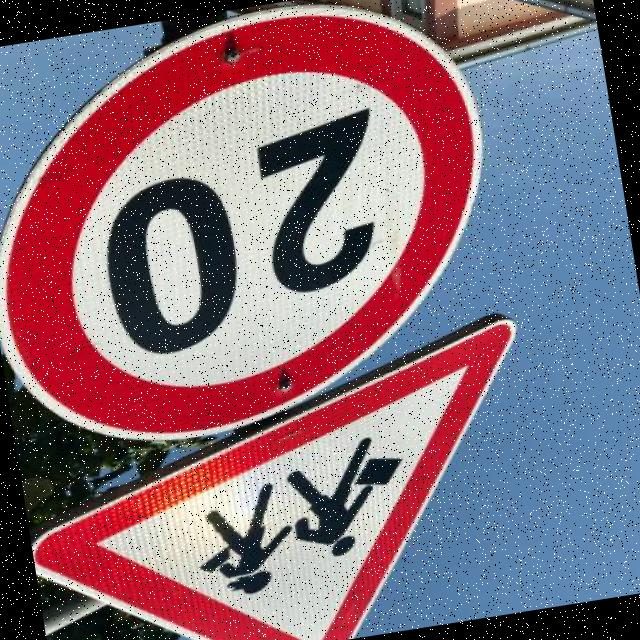speed_limit_20: (0, 0, 493, 454)
